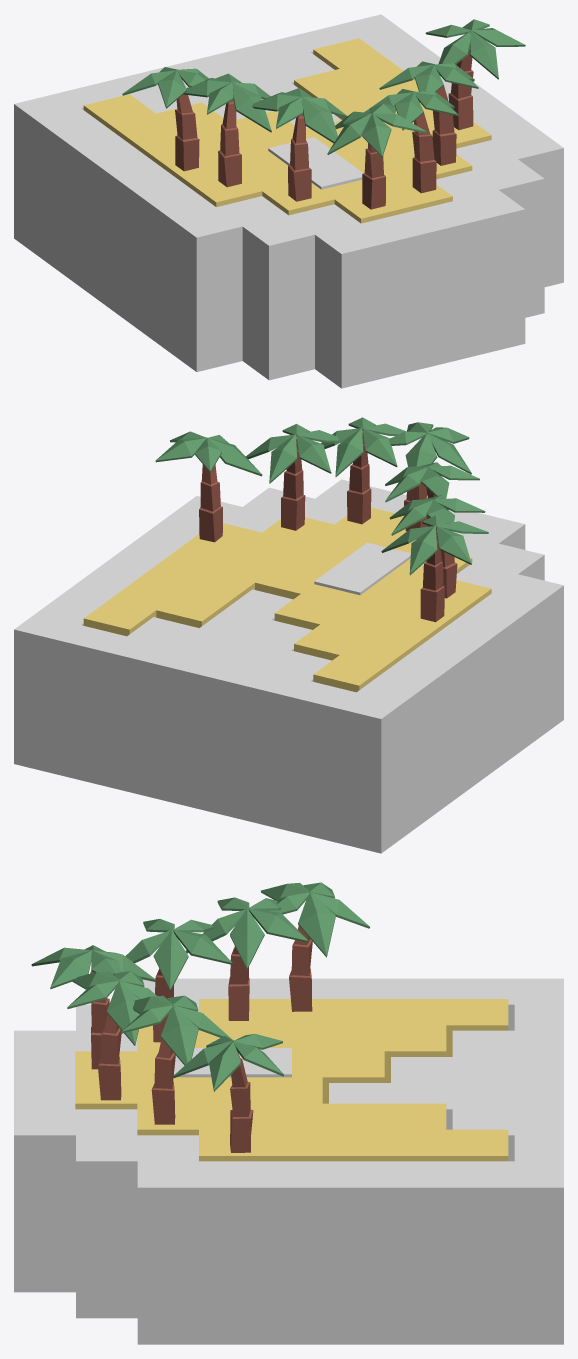
Rendered from LAST_LEVEL.fbx.
The picture shows the model from 3 angles, top to bottom: view 1: azimuth 30°, elevation 25°; view 2: azimuth 150°, elevation 25°; view 3: azimuth 270°, elevation 25°; orthographic projection. The views are drawn at different scales.
Visible parts, largest first — view 1: Mer, Last_level, Feuilles_7, Feuilles_3, Feuilles_4, Feuilles_2, Serviette, Feuilles_6, Palmier_2, Palmier_3, Palmier_1, Palmier_5 (+5 smaller); view 2: Mer, Last_level, Serviette, Feuilles_1, Feuilles_6, Feuilles_5, Feuilles_4, Feuilles_7, Feuilles_3, Feuilles_2, Palmier_7, Palmier_1 (+3 smaller); view 3: Mer, Last_level, Feuilles_3, Feuilles_6, Feuilles_2, Feuilles_1, Feuilles_5, Feuilles_7, Feuilles_4, Palmier_7, Palmier_5, Palmier_6 (+4 smaller).
Part boxes in pixels (bbox=[...]): Mer: bbox=[14, 14, 563, 388]; Last_level: bbox=[83, 38, 491, 223]; Feuilles_7: bbox=[425, 19, 525, 79]; Feuilles_3: bbox=[252, 88, 347, 143]; Feuilles_4: bbox=[327, 104, 426, 157]; Feuilles_2: bbox=[183, 73, 271, 132]; Serviette: bbox=[268, 137, 363, 189]; Feuilles_6: bbox=[379, 61, 478, 91]; Palmier_2: bbox=[218, 100, 241, 187]; Palmier_3: bbox=[288, 113, 311, 201]; Palmier_1: bbox=[175, 94, 199, 171]; Palmier_5: bbox=[412, 102, 436, 193]; Mer: bbox=[14, 479, 563, 853]; Last_level: bbox=[83, 507, 491, 692]; Serviette: bbox=[314, 542, 410, 595]; Feuilles_1: bbox=[381, 515, 488, 575]; Feuilles_6: bbox=[245, 424, 342, 483]; Feuilles_5: bbox=[321, 417, 406, 477]; Feuilles_4: bbox=[389, 422, 471, 474]; Feuilles_7: bbox=[155, 431, 262, 476]; Feuilles_3: bbox=[385, 462, 479, 502]; Feuilles_2: bbox=[389, 495, 485, 535]; Palmier_7: bbox=[199, 464, 222, 542]; Palmier_1: bbox=[420, 530, 444, 622]; Mer: bbox=[14, 978, 563, 1344]; Last_level: bbox=[75, 999, 508, 1161]; Feuilles_3: bbox=[125, 919, 232, 990]; Feuilles_6: bbox=[121, 995, 232, 1065]; Feuilles_2: bbox=[185, 897, 308, 969]; Feuilles_1: bbox=[261, 882, 369, 957]; Feuilles_5: bbox=[67, 971, 156, 1045]; Feuilles_7: bbox=[173, 1034, 283, 1091]; Feuilles_4: bbox=[31, 945, 155, 989]; Palmier_7: bbox=[230, 1051, 253, 1152]; Palmier_5: bbox=[97, 1014, 121, 1100]; Palmier_6: bbox=[151, 1039, 175, 1124].
Size of the model in its own units: 1600 by 1003 by 1779.
